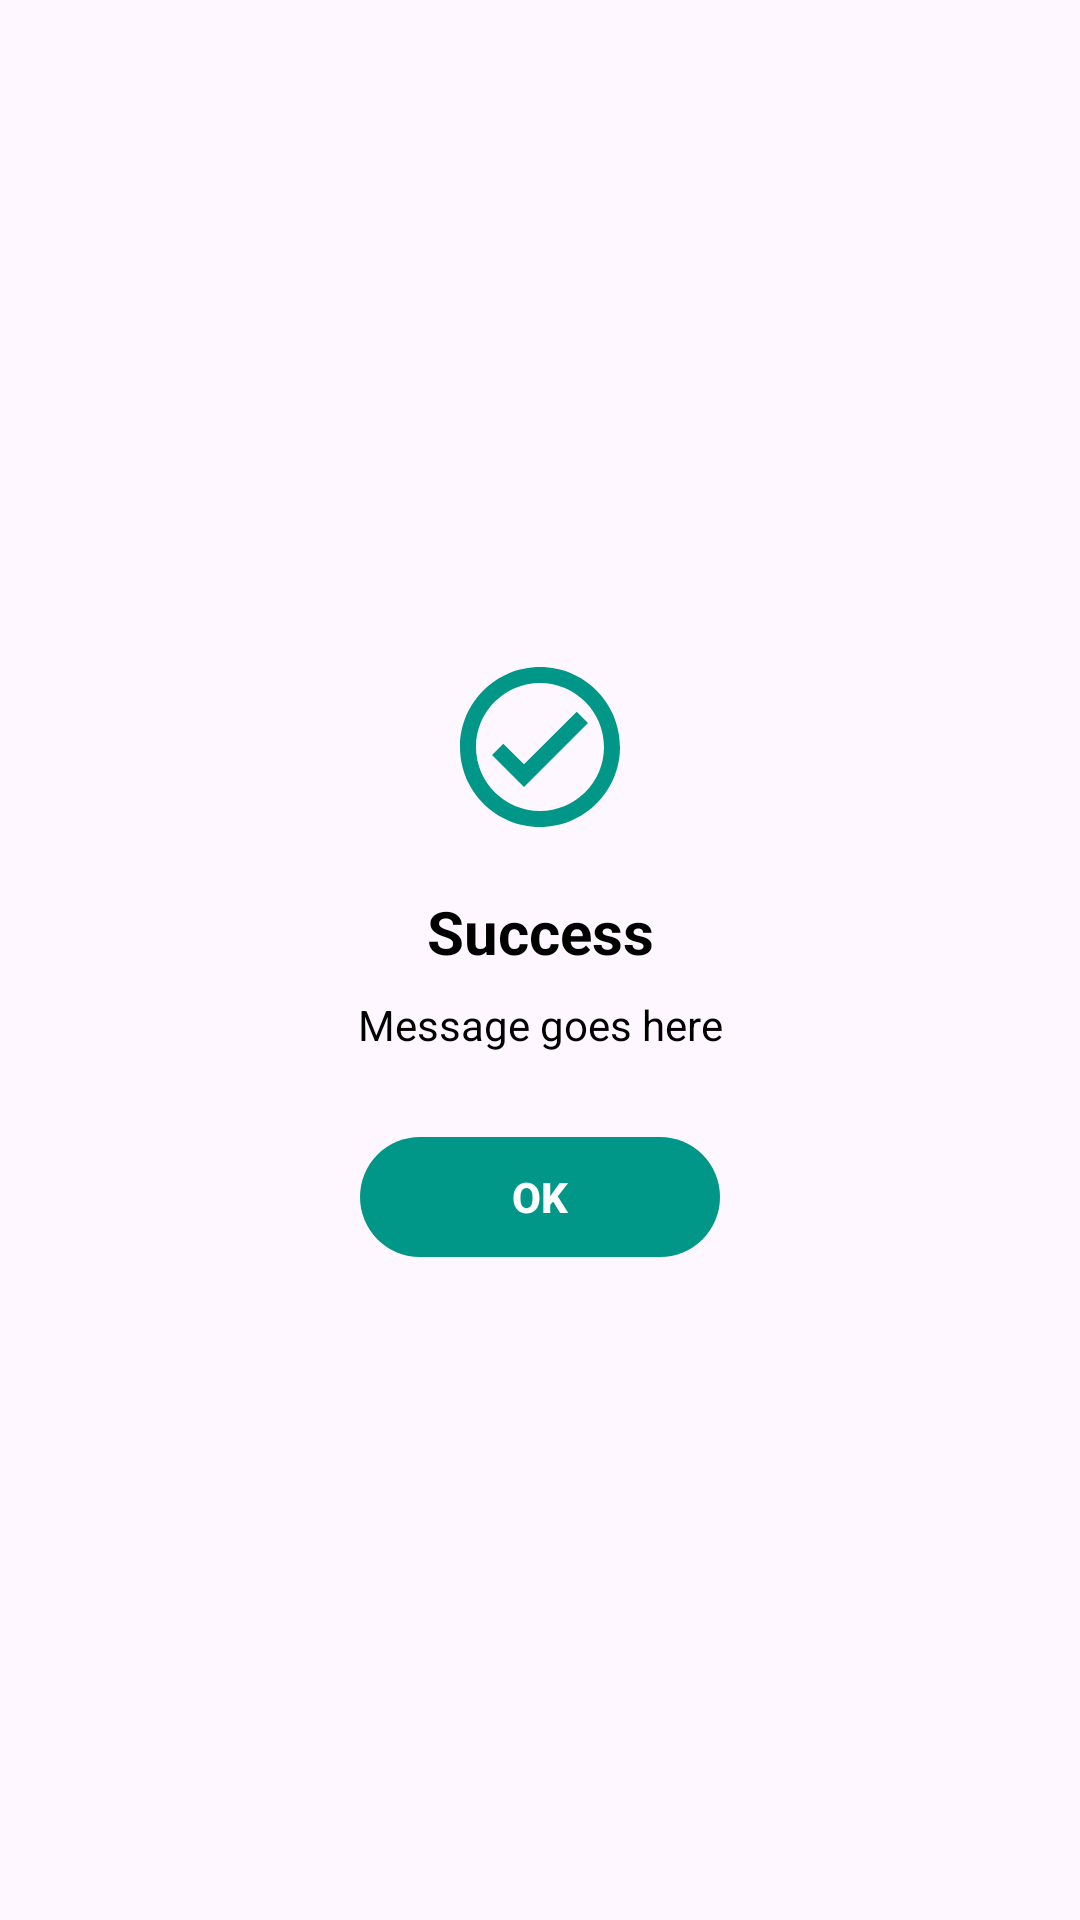

Icon click points for this 1080 x 1920 phone screenshot, format (x=x, y=y):
check circle: (x=540, y=747)
